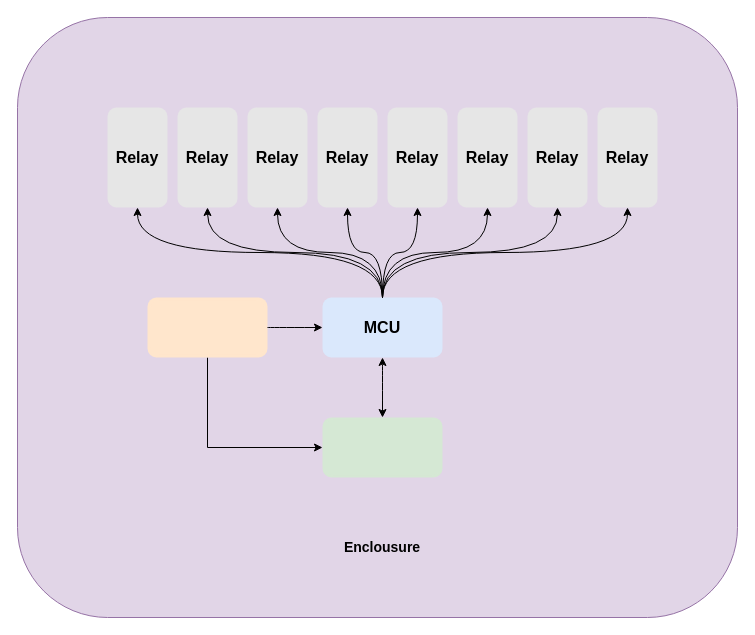
Image size: 755x635. Some labels were removed from this diagram. The shapes that lost their labels are listed below. From the top down, each one's centre as x and y in pixels, then its label:
At (x=207, y=327): "Power Supply".
At (x=382, y=447): "User Interface".
